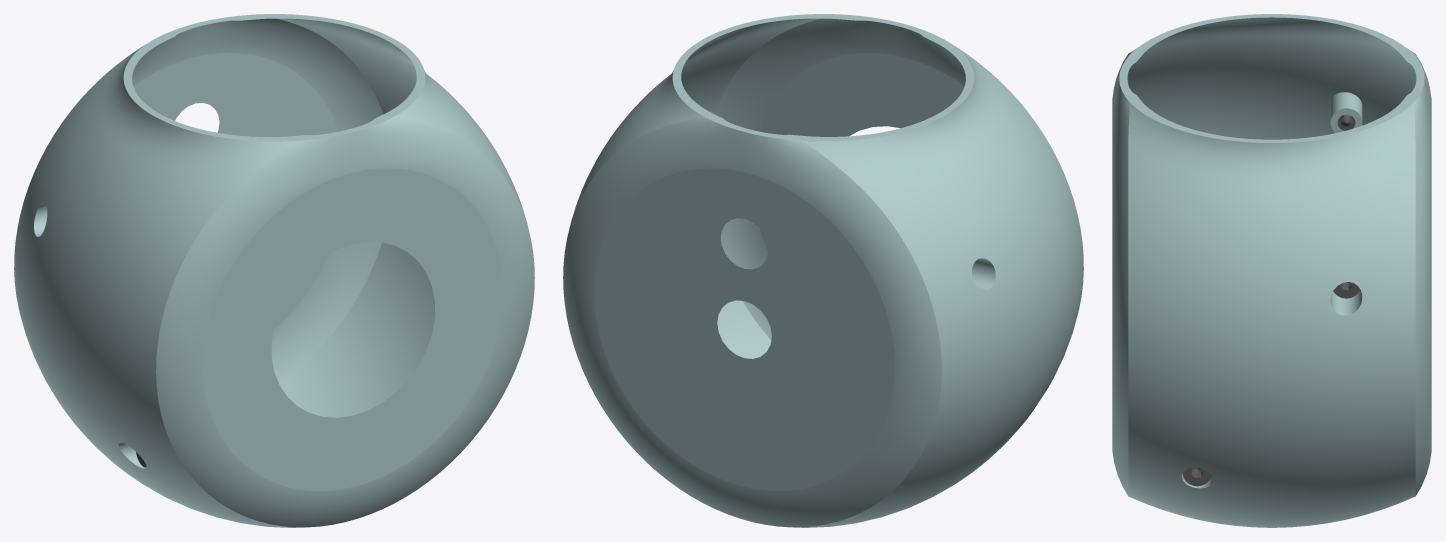
File: right_arm_link6.obj
3 views of the same model, side by side, from view 1: azimuth 30°, elevation 25°; view 2: azimuth 150°, elevation 25°; view 3: azimuth 270°, elevation 25° (orthographic).
Parts seen in each view (by area): view 1: 1; view 2: 1; view 3: 1, 2.
Part boxes in pixels (x1,y1,x2,y2): 1: [14, 14, 534, 527]; 1: [563, 14, 1083, 527]; 1: [1112, 14, 1431, 527]; 2: [1182, 114, 1360, 486].
Size of the model in its own units: 0.095 by 0.0883 by 0.06.
